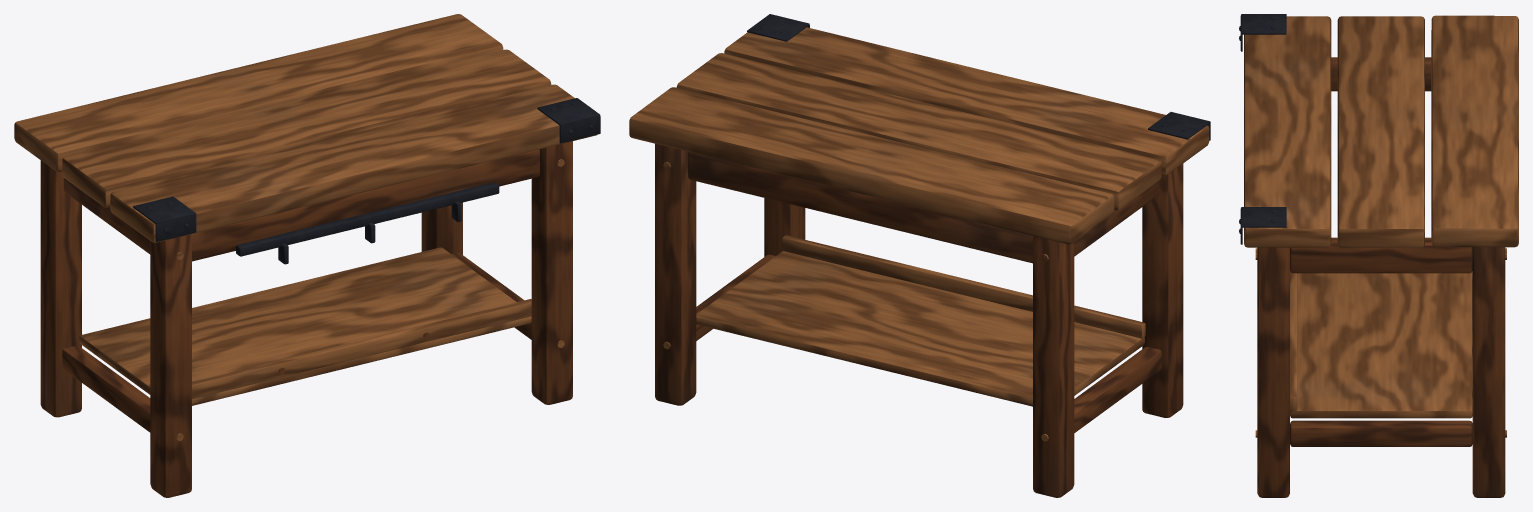
File: bench.glb
3 renders of one model, left to right at view 1: azimuth 30°, elevation 25°; view 2: azimuth 150°, elevation 25°; view 3: azimuth 270°, elevation 25°, orthographic. The views are drawn at different scales.
Visible parts, largest first — view 1: Bench_Body; view 2: Bench_Body; view 3: Bench_Body.
Boxes of the visible parts, x1,y1,x2,y2 form: Bench_Body: [14, 14, 600, 497]; Bench_Body: [629, 14, 1210, 497]; Bench_Body: [1239, 14, 1518, 497].
Size of the model in its own units: 1.55 by 0.9595 by 0.8581.
3 materials, 3 textured.
